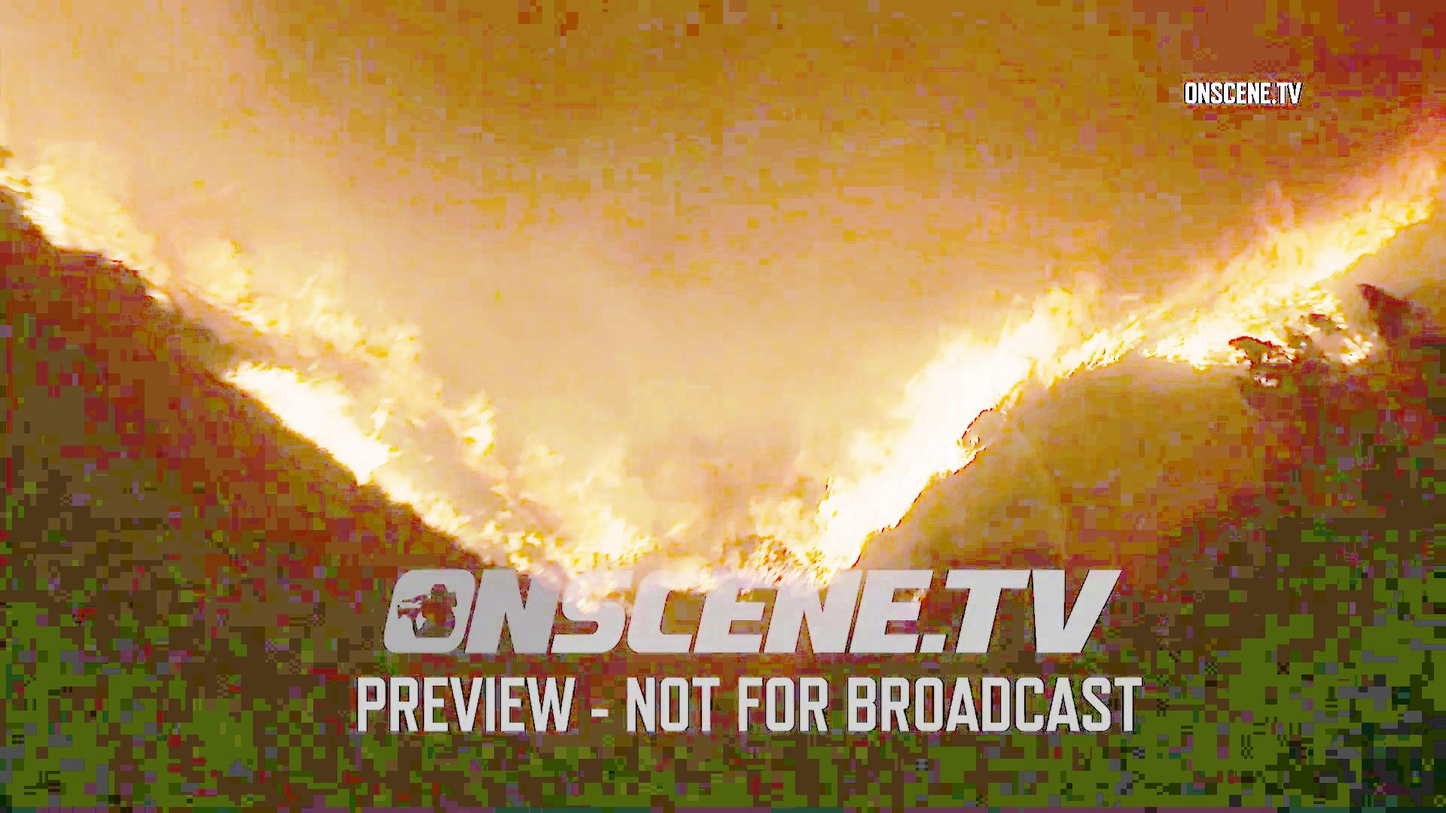fire: (247, 298, 397, 481), (915, 283, 1047, 422), (1225, 215, 1350, 354)
